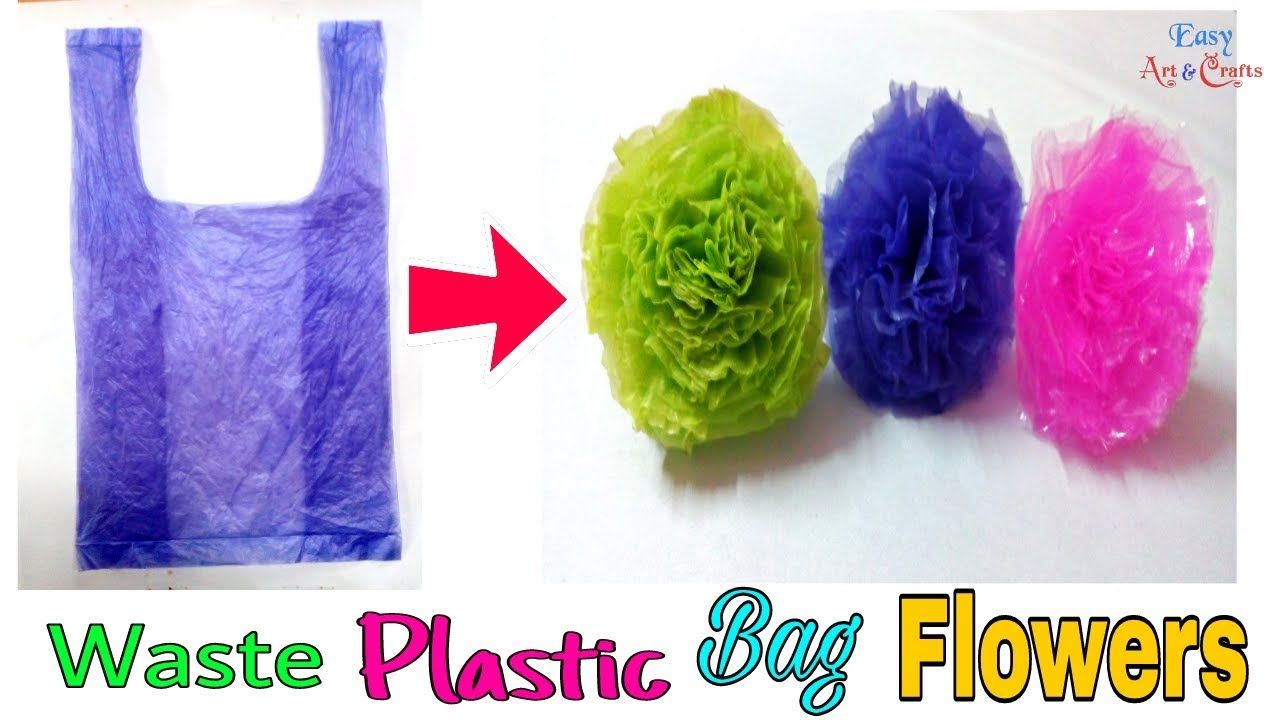plastic_bag: (53, 7, 408, 575)
